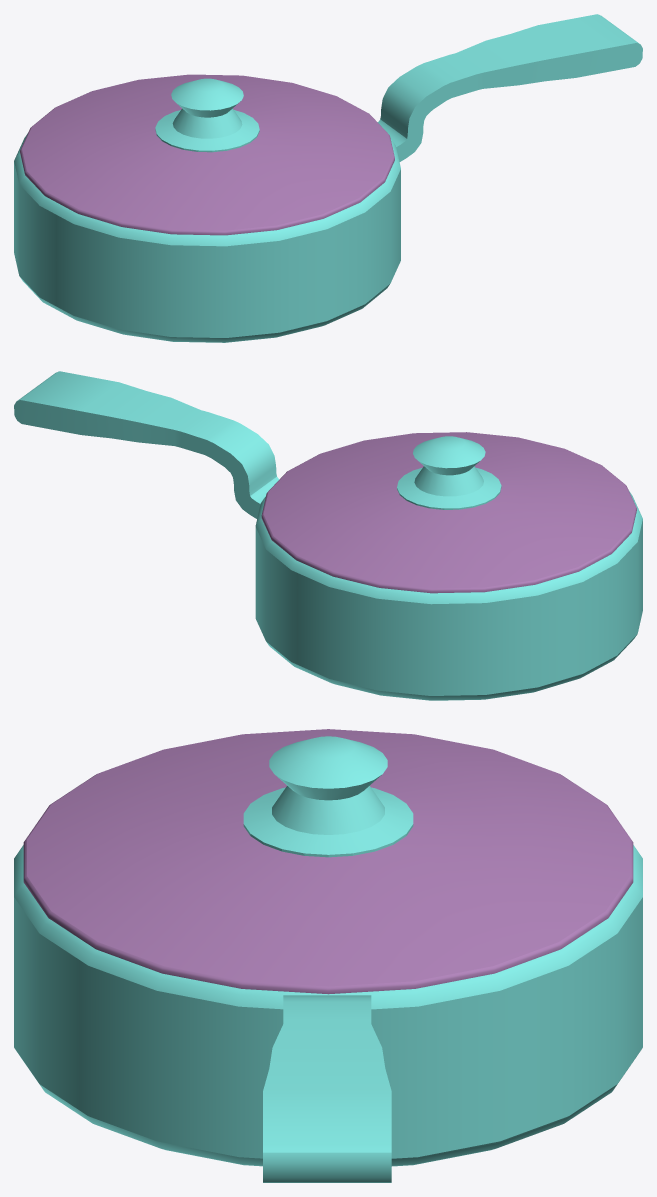
The model's file is Pot1.fbx.
3 renders of one model, top to bottom at view 1: azimuth 30°, elevation 25°; view 2: azimuth 150°, elevation 25°; view 3: azimuth 270°, elevation 25°, orthographic. The views are drawn at different scales.
Visible parts, largest first — view 1: Cylinder001; view 2: Cylinder001; view 3: Cylinder001.
Boxes of the visible parts, x1,y1,x2,y2 form: Cylinder001: (14, 14, 642, 342); Cylinder001: (14, 371, 642, 700); Cylinder001: (14, 729, 642, 1182).
Size of the model in its own units: 27.43 by 8.1 by 15.62.
